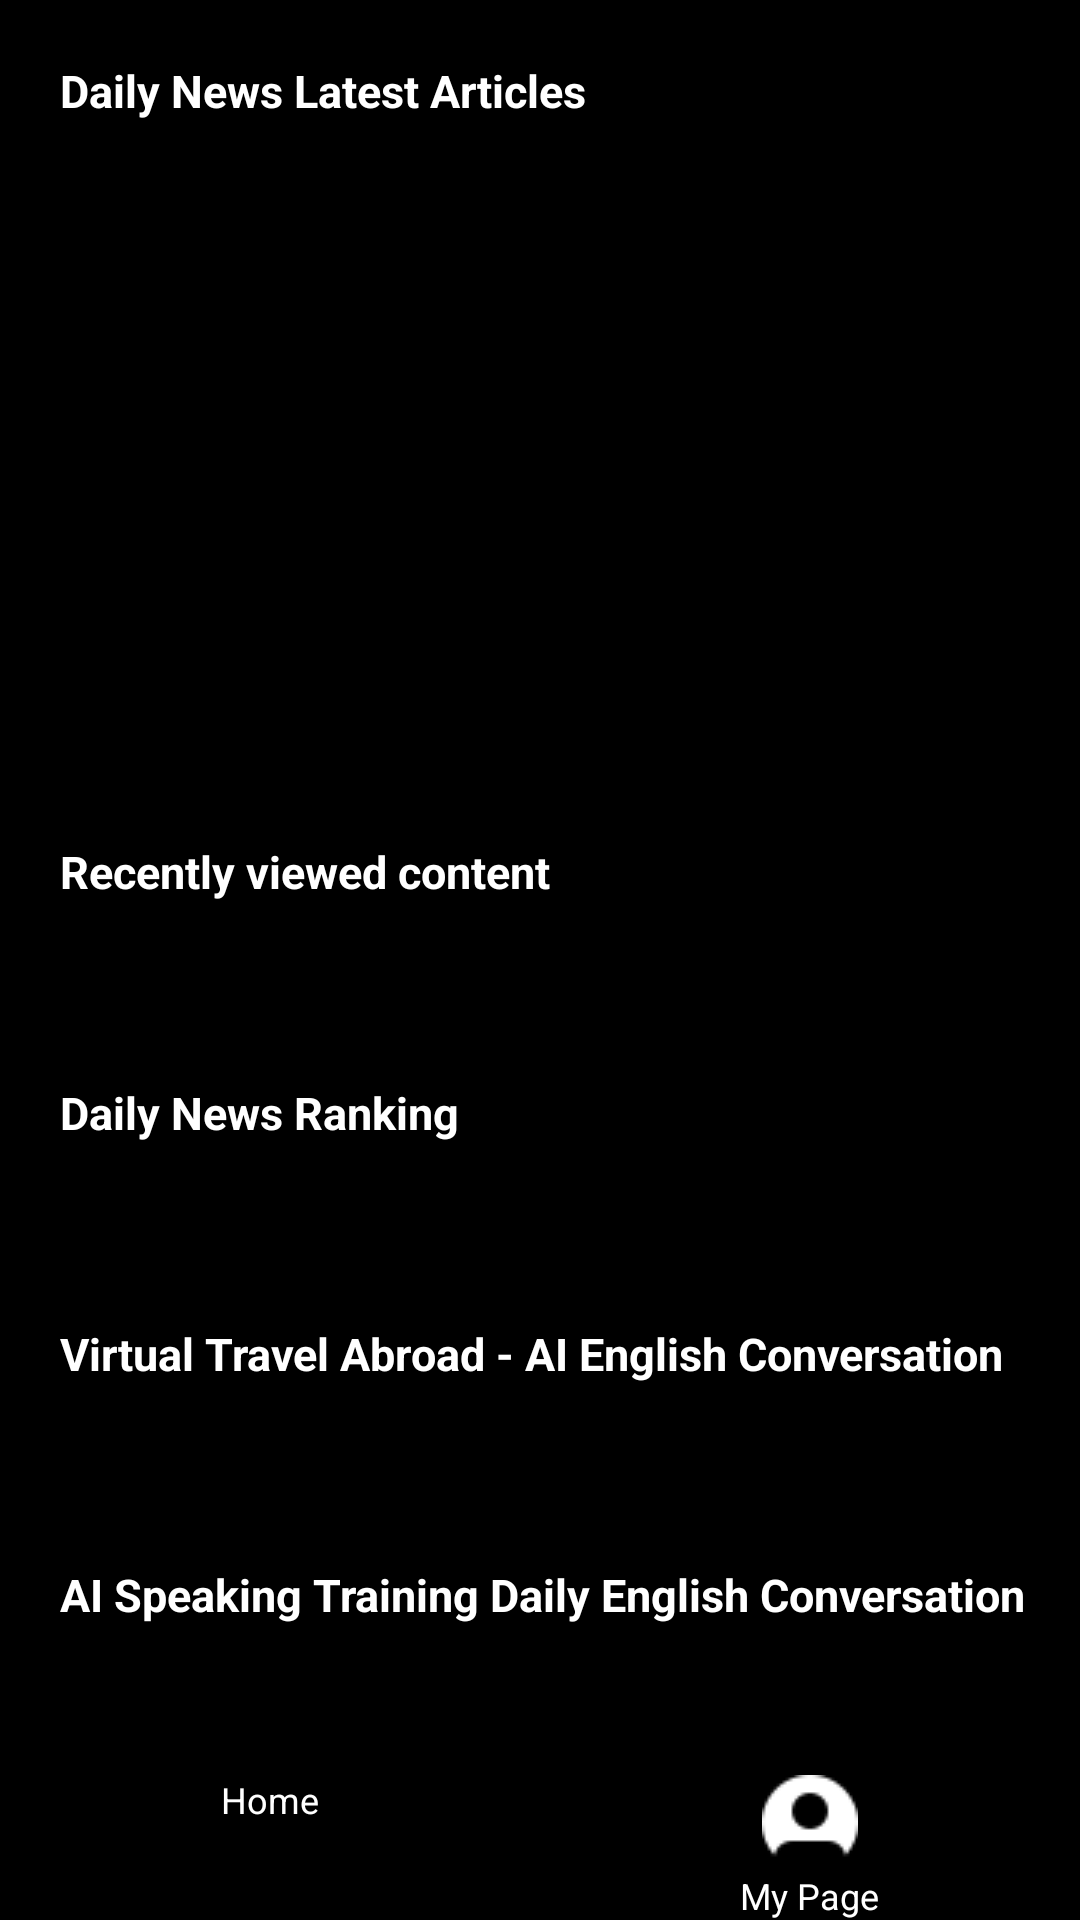

Icons on this 1080×1920 Android screen, each with the point to tap as point (x, y):
Profile: point (810, 1815)
